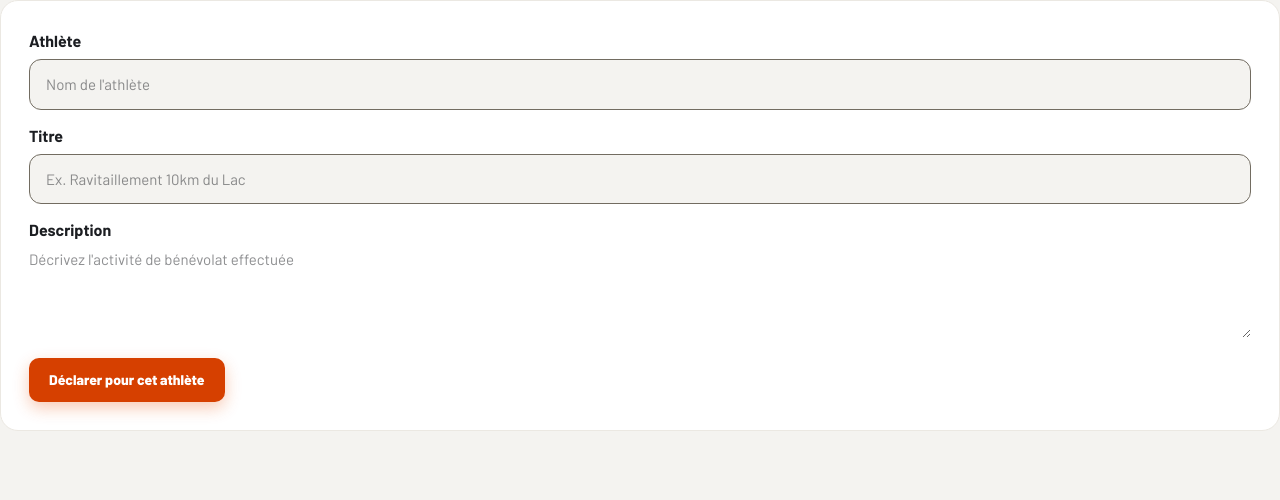
Scenario: VolunteerActionForm › refuse la soumission quand le titre ou la description est vide
In the field labelled "Athlète": (640, 84) [46,73,1234,96], type "Ker"
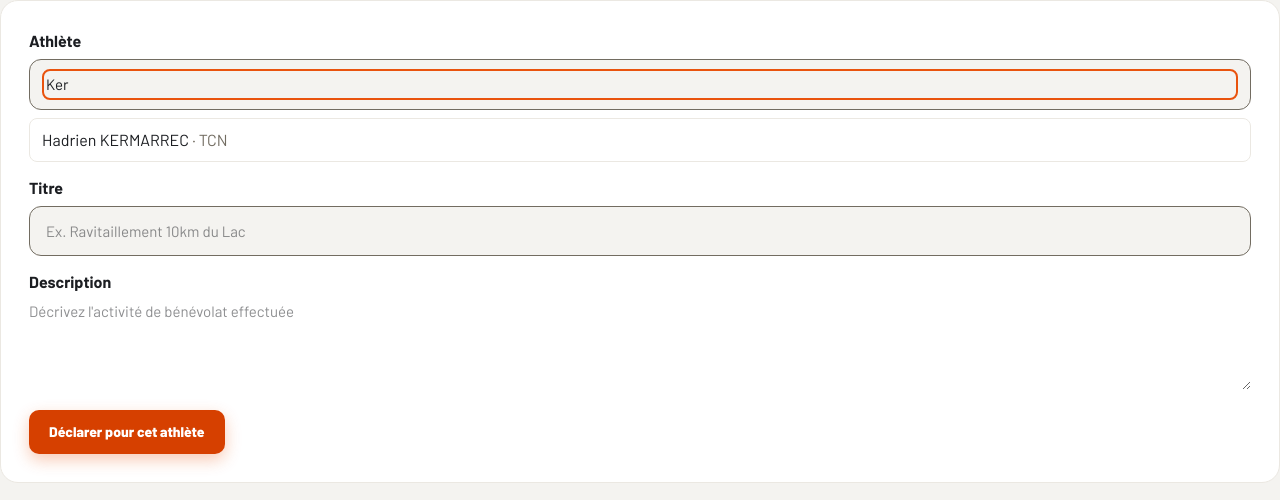
Expected: the button "Hadrien KERMARREC · TCN" is shown
Click the button "Hadrien KERMARREC · TCN": (116, 139) [29,118,1251,162]
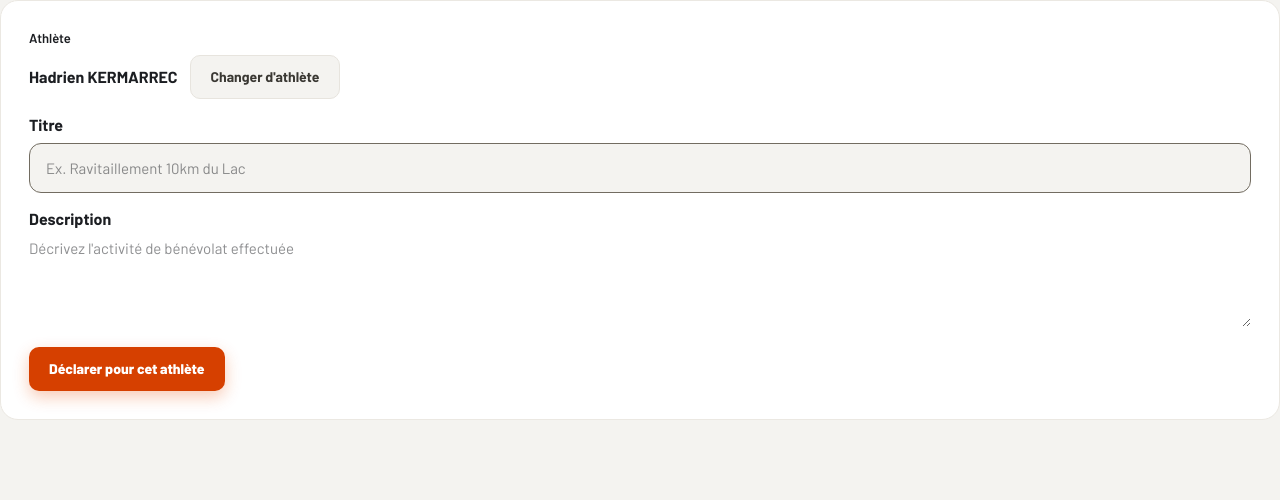
Click the button "Déclarer pour cet athlète": (127, 369) [29,347,225,391]
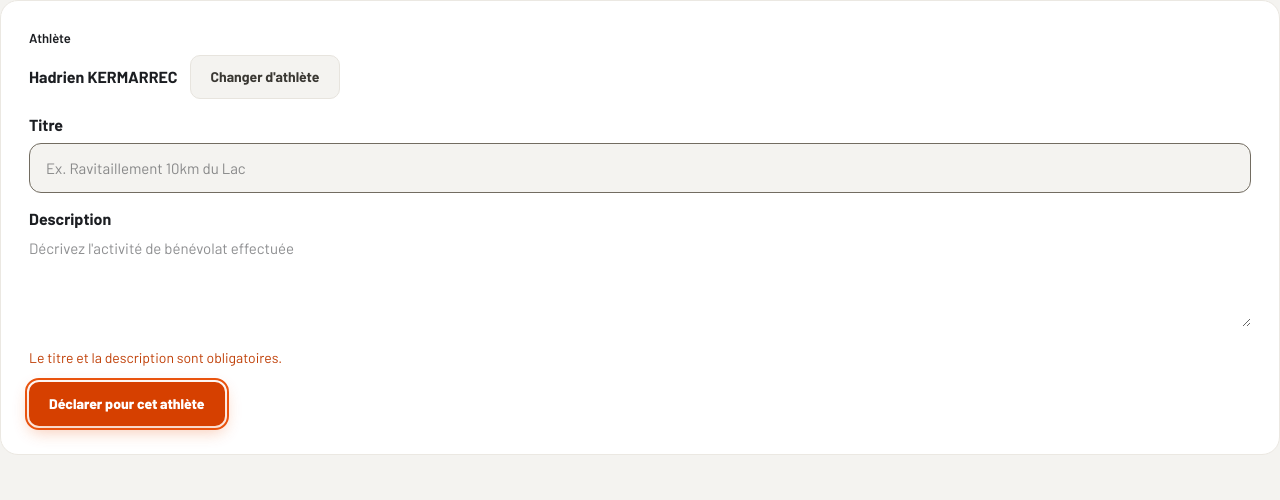
Expected: the message shows "obligatoires", [29,349,282,366]
